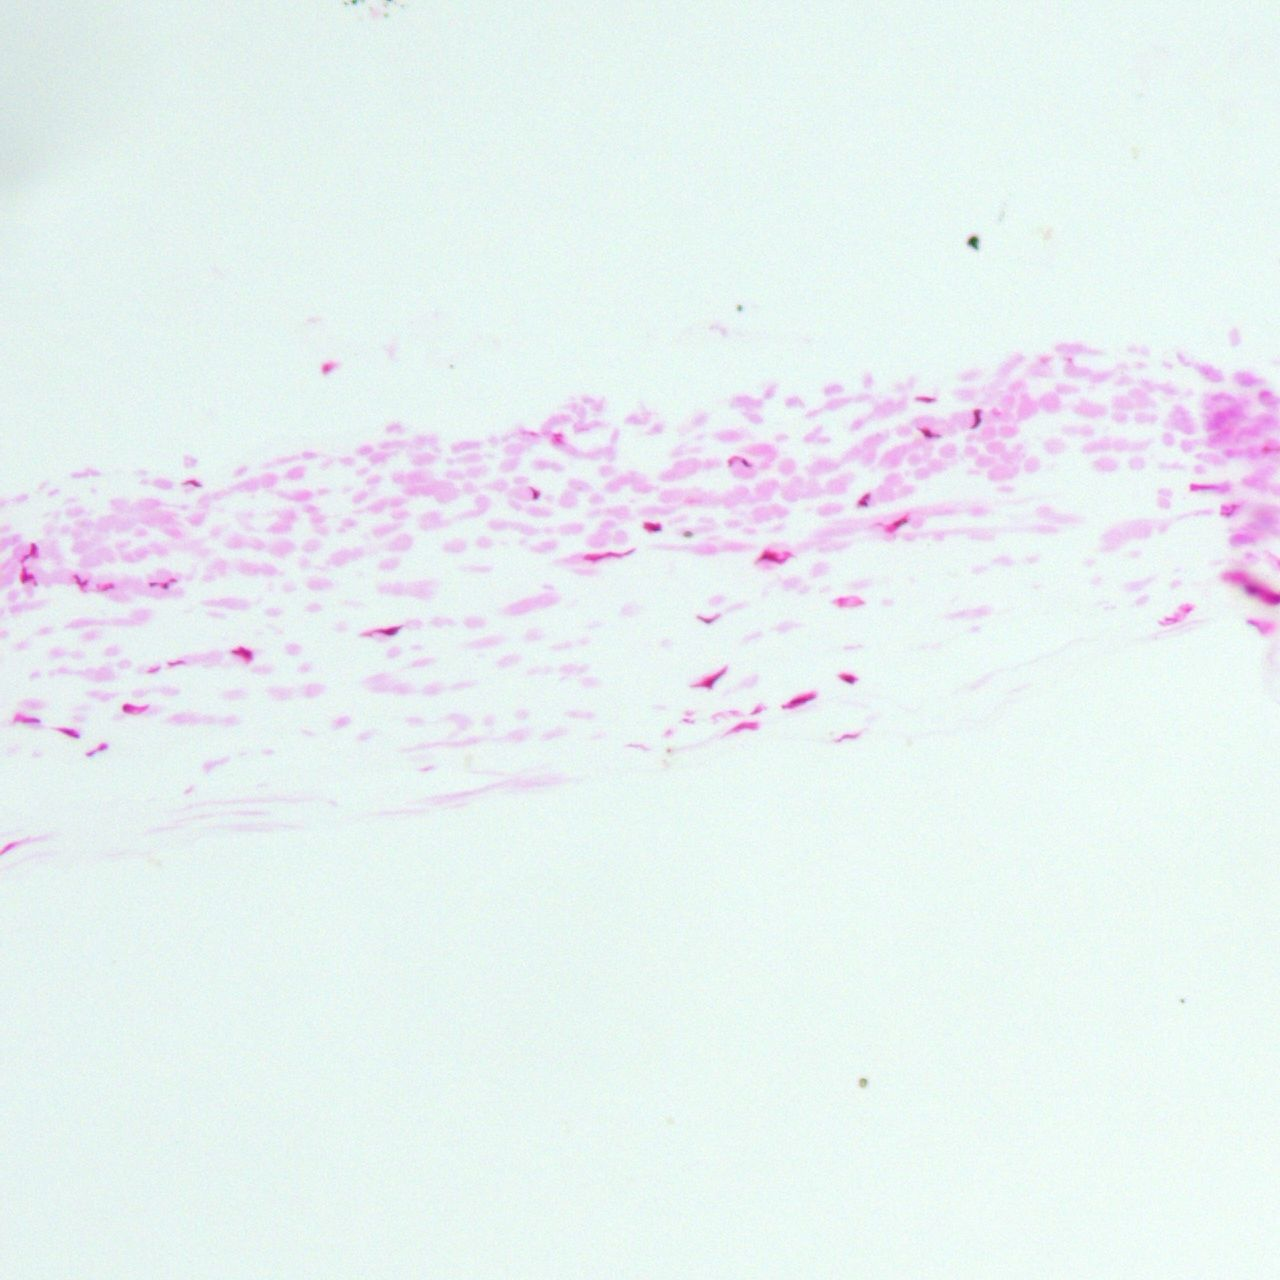dust: (966, 233, 981, 252), (856, 1074, 867, 1090), (1176, 995, 1192, 1006), (682, 530, 695, 538), (734, 302, 743, 311), (384, 11, 392, 19), (448, 365, 455, 370), (665, 747, 672, 753), (367, 6, 374, 11), (343, 1, 350, 5)
nucleus-FG: (689, 666, 731, 695), (362, 622, 403, 642), (584, 547, 633, 563), (781, 690, 815, 712), (755, 551, 796, 565), (724, 719, 760, 735), (84, 740, 110, 760), (886, 515, 910, 532), (56, 723, 82, 738), (1220, 502, 1242, 519), (915, 427, 940, 441), (72, 570, 89, 588), (835, 731, 862, 743), (0, 840, 16, 857), (233, 646, 251, 661), (838, 670, 857, 685), (120, 703, 147, 713), (19, 566, 33, 583), (695, 613, 720, 622), (971, 408, 981, 429), (858, 491, 871, 508), (1242, 583, 1257, 597), (1189, 483, 1217, 490), (149, 663, 163, 675), (182, 478, 200, 486), (529, 485, 539, 499), (18, 553, 30, 564), (914, 396, 937, 402), (20, 717, 41, 723), (101, 583, 114, 592), (166, 660, 185, 666), (30, 542, 38, 556), (726, 457, 735, 468), (321, 363, 331, 373), (742, 459, 754, 467), (651, 526, 661, 533), (551, 433, 563, 438), (551, 438, 561, 442)
